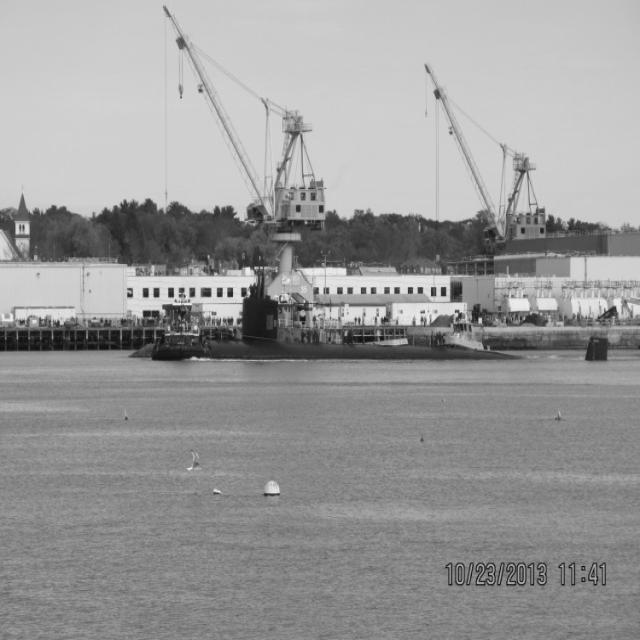submarine: (138, 287, 610, 363)
